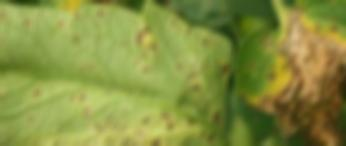Tomato Septoria leaf spot: (0, 2, 255, 146), (247, 0, 346, 143)
